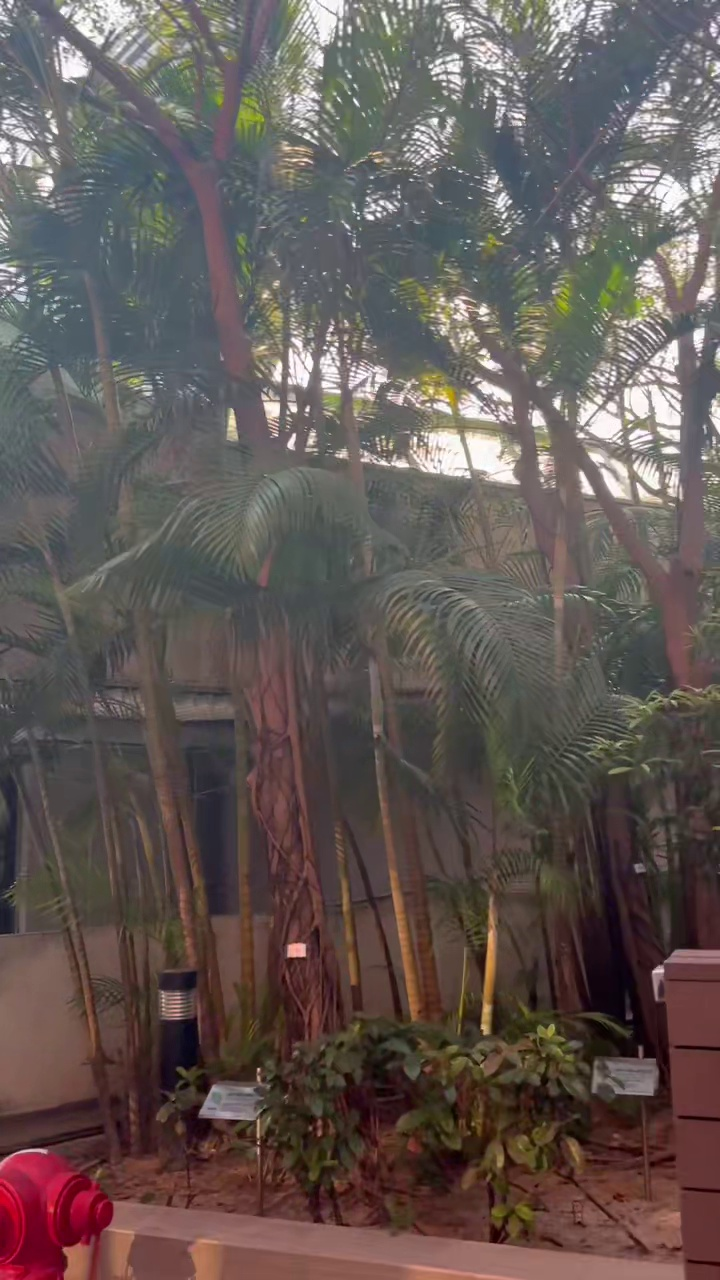Ficus benjamina: (32, 0, 343, 1042)
